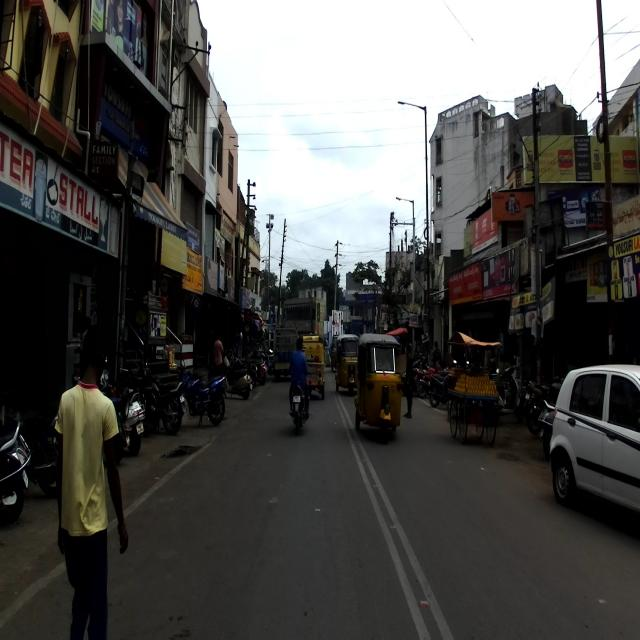Car: (550, 363, 640, 512)
autorickshaw: (354, 330, 406, 442)
motorcycle: (0, 394, 64, 496)
motorcycle_bajaj: (175, 359, 226, 427), (512, 374, 557, 436)
scooter: (115, 366, 162, 438), (1, 419, 32, 523)
